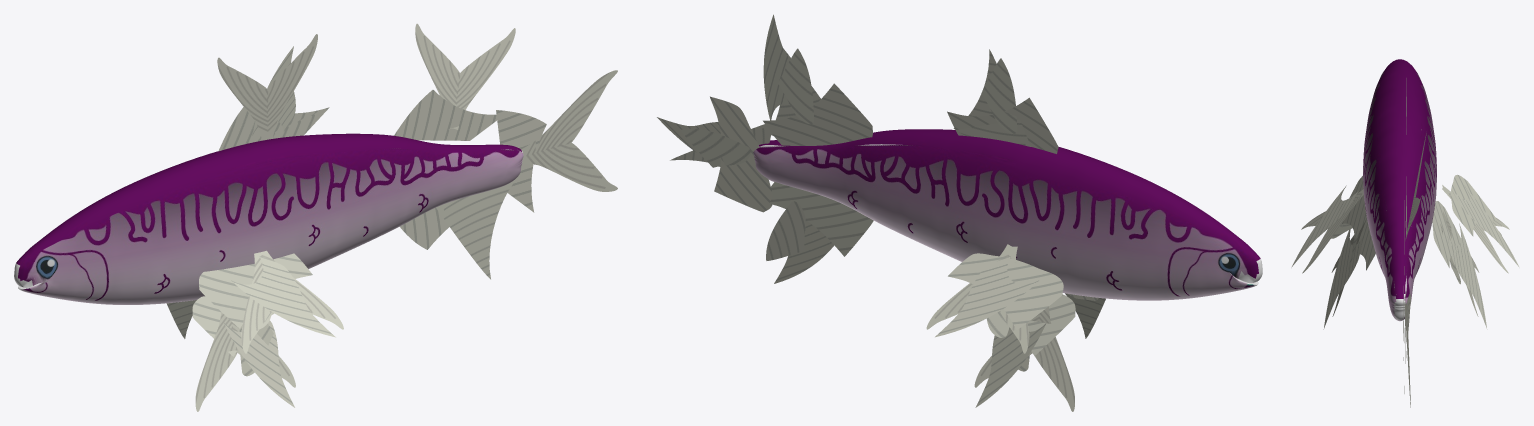
3 renders of one model, left to right at view 1: azimuth 30°, elevation 25°; view 2: azimuth 150°, elevation 25°; view 3: azimuth 270°, elevation 25°, orthographic. The views are drawn at different scales.
Visible parts, largest first — view 1: fish, pos-tail_fin-tail, pos-dorsal_fin-tail, pos-body_fin-tail, pos-anal_fin-dorsal, pos-body_fin-anal, pos-pectoral_fin-pectoral_right, pos-pectoral_fin-body_right, pos-tail_fin-anal, pos-pelvic_fin-tail_right, pos-pectoral_fin-tail_right, pos-pelvic_fin-pectoral_right (+5 smaller); view 2: fish, pos-body_fin-body, pos-tail_fin-body, pos-pectoral_fin-body, pos-anal_fin-body, pos-pectoral_fin-pectoral, pos-pelvic_fin-pectoral, pos-dorsal_fin-body, pos-pelvic_fin-tail, pos-body_fin-pelvic, pos-anal_fin-pelvic, pos-tail_fin-pelvic (+8 smaller); view 3: fish, pos-pelvic_fin-pectoral_right, pos-pelvic_fin-pectoral, pos-pelvic_fin-body, pos-pectoral_fin-body, pos-pectoral_fin-pectoral, pos-pectoral_fin-pectoral_right, pos-pectoral_fin-tail_right, pos-pectoral_fin-body_right, pos-pectoral_fin-tail, pos-pelvic_fin-body_right, pos-body_fin-tail (+1 smaller).
Part boxes in pixels (x1,y1,x2,y2): fish: (14, 133, 523, 304); pos-tail_fin-tail: (521, 70, 617, 191); pos-dorsal_fin-tail: (217, 34, 317, 140); pos-body_fin-tail: (415, 23, 515, 129); pos-anal_fin-dorsal: (436, 181, 514, 279); pos-body_fin-anal: (394, 90, 496, 140); pos-pectoral_fin-pectoral_right: (231, 256, 335, 337); pos-pectoral_fin-body_right: (199, 253, 312, 328); pos-tail_fin-anal: (496, 110, 546, 212); pos-pelvic_fin-tail_right: (195, 312, 295, 411); pos-pectoral_fin-tail_right: (241, 250, 343, 353); pos-pelvic_fin-pectoral_right: (224, 320, 294, 407); fish: (753, 129, 1262, 300); pos-body_fin-body: (763, 83, 872, 145); pos-tail_fin-body: (710, 96, 772, 212); pos-pectoral_fin-body: (948, 253, 1063, 329); pos-anal_fin-body: (769, 182, 873, 256); pos-pectoral_fin-pectoral: (935, 256, 1038, 337); pos-pelvic_fin-pectoral: (975, 323, 1046, 407); pos-dorsal_fin-body: (947, 97, 1058, 153); pos-pelvic_fin-tail: (974, 306, 1074, 411); pos-body_fin-pelvic: (778, 48, 813, 124); pos-anal_fin-pelvic: (766, 201, 805, 260); pos-tail_fin-pelvic: (681, 128, 750, 167); fish: (1363, 59, 1436, 321); pos-pelvic_fin-pectoral_right: (1323, 229, 1363, 329); pos-pelvic_fin-pectoral: (1447, 223, 1487, 329); pos-pelvic_fin-body: (1432, 201, 1460, 267); pos-pectoral_fin-body: (1451, 174, 1497, 236); pos-pectoral_fin-pectoral: (1452, 185, 1519, 267); pos-pectoral_fin-pectoral_right: (1291, 185, 1358, 267); pos-pectoral_fin-tail_right: (1301, 189, 1363, 273); pos-pectoral_fin-body_right: (1341, 176, 1366, 239); pos-pectoral_fin-tail: (1442, 185, 1509, 273); pos-pelvic_fin-body_right: (1358, 219, 1375, 270); pos-body_fin-tail: (1405, 133, 1426, 240).
Size of the model in its own units: 1319 by 673 by 463.
Materials: 7 (7 with a texture image).
